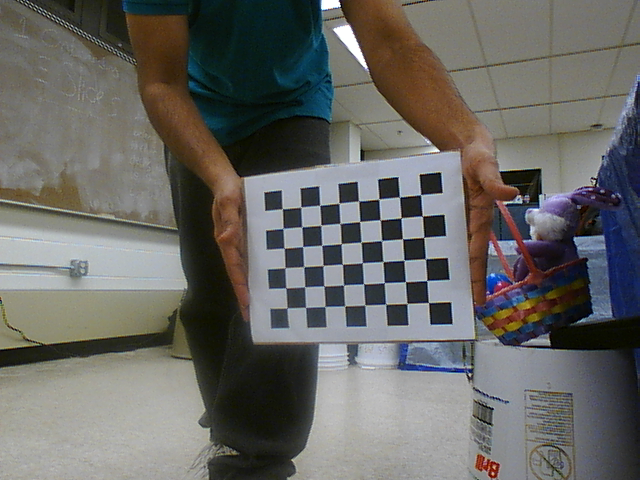bunny: (476, 180, 609, 347)
